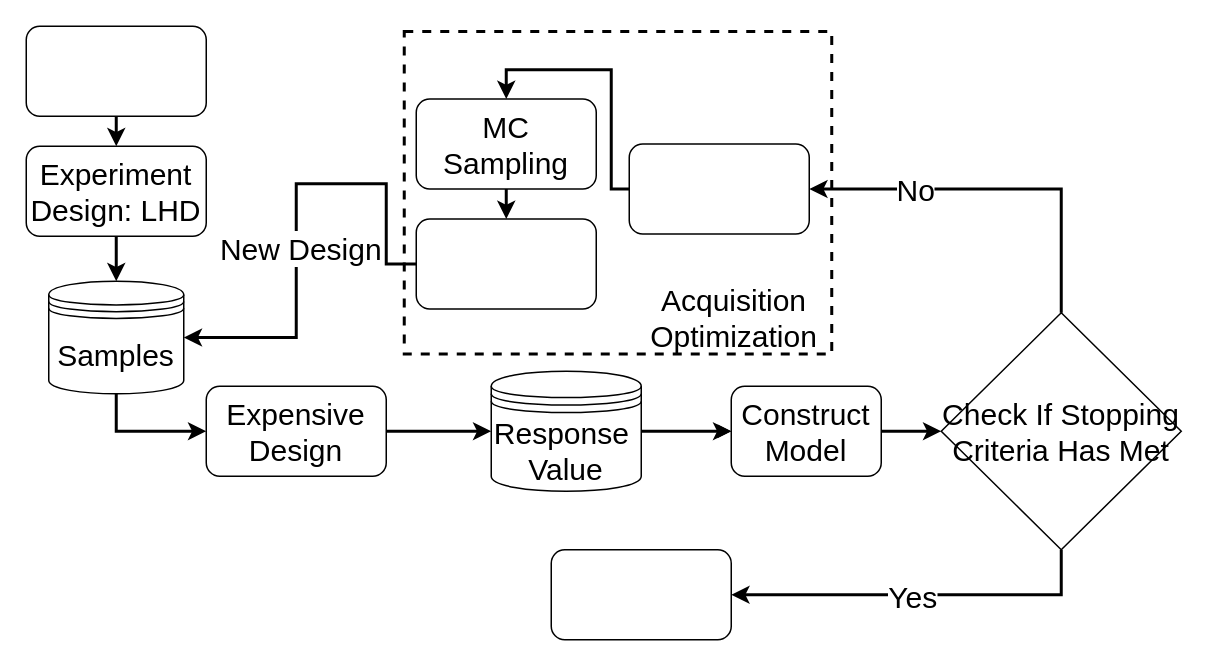
This 1208x666 diagram has some shape labels left out. Each missing label, with the box of its shape:
Acquisition Function: (628, 142, 809, 234)
Design Variables: (25, 25, 206, 116)
L-BFGS-B: (415, 218, 596, 309)
Model: (550, 548, 731, 640)
